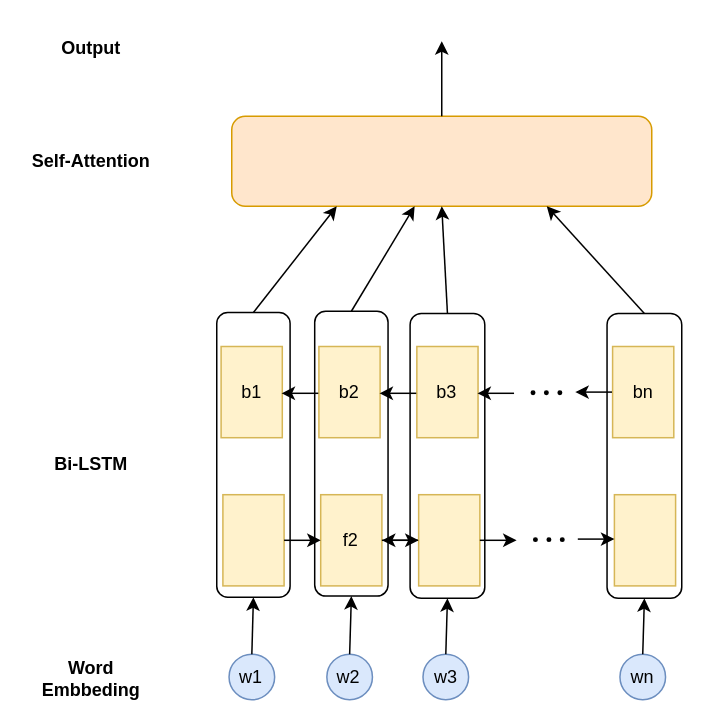
Some shapes in this 708 by 726 pixel diagram are drawn without their labels. The centre of each missing label's shape, as x and y in pixels:
"attention A" goes at (x=441, y=160).
"f1" goes at (x=252, y=539).
"f3" goes at (x=448, y=539).
"fn" goes at (x=644, y=539).
